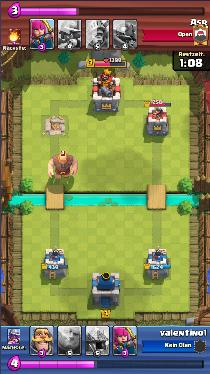enemy_giant: (47, 153, 78, 179)
